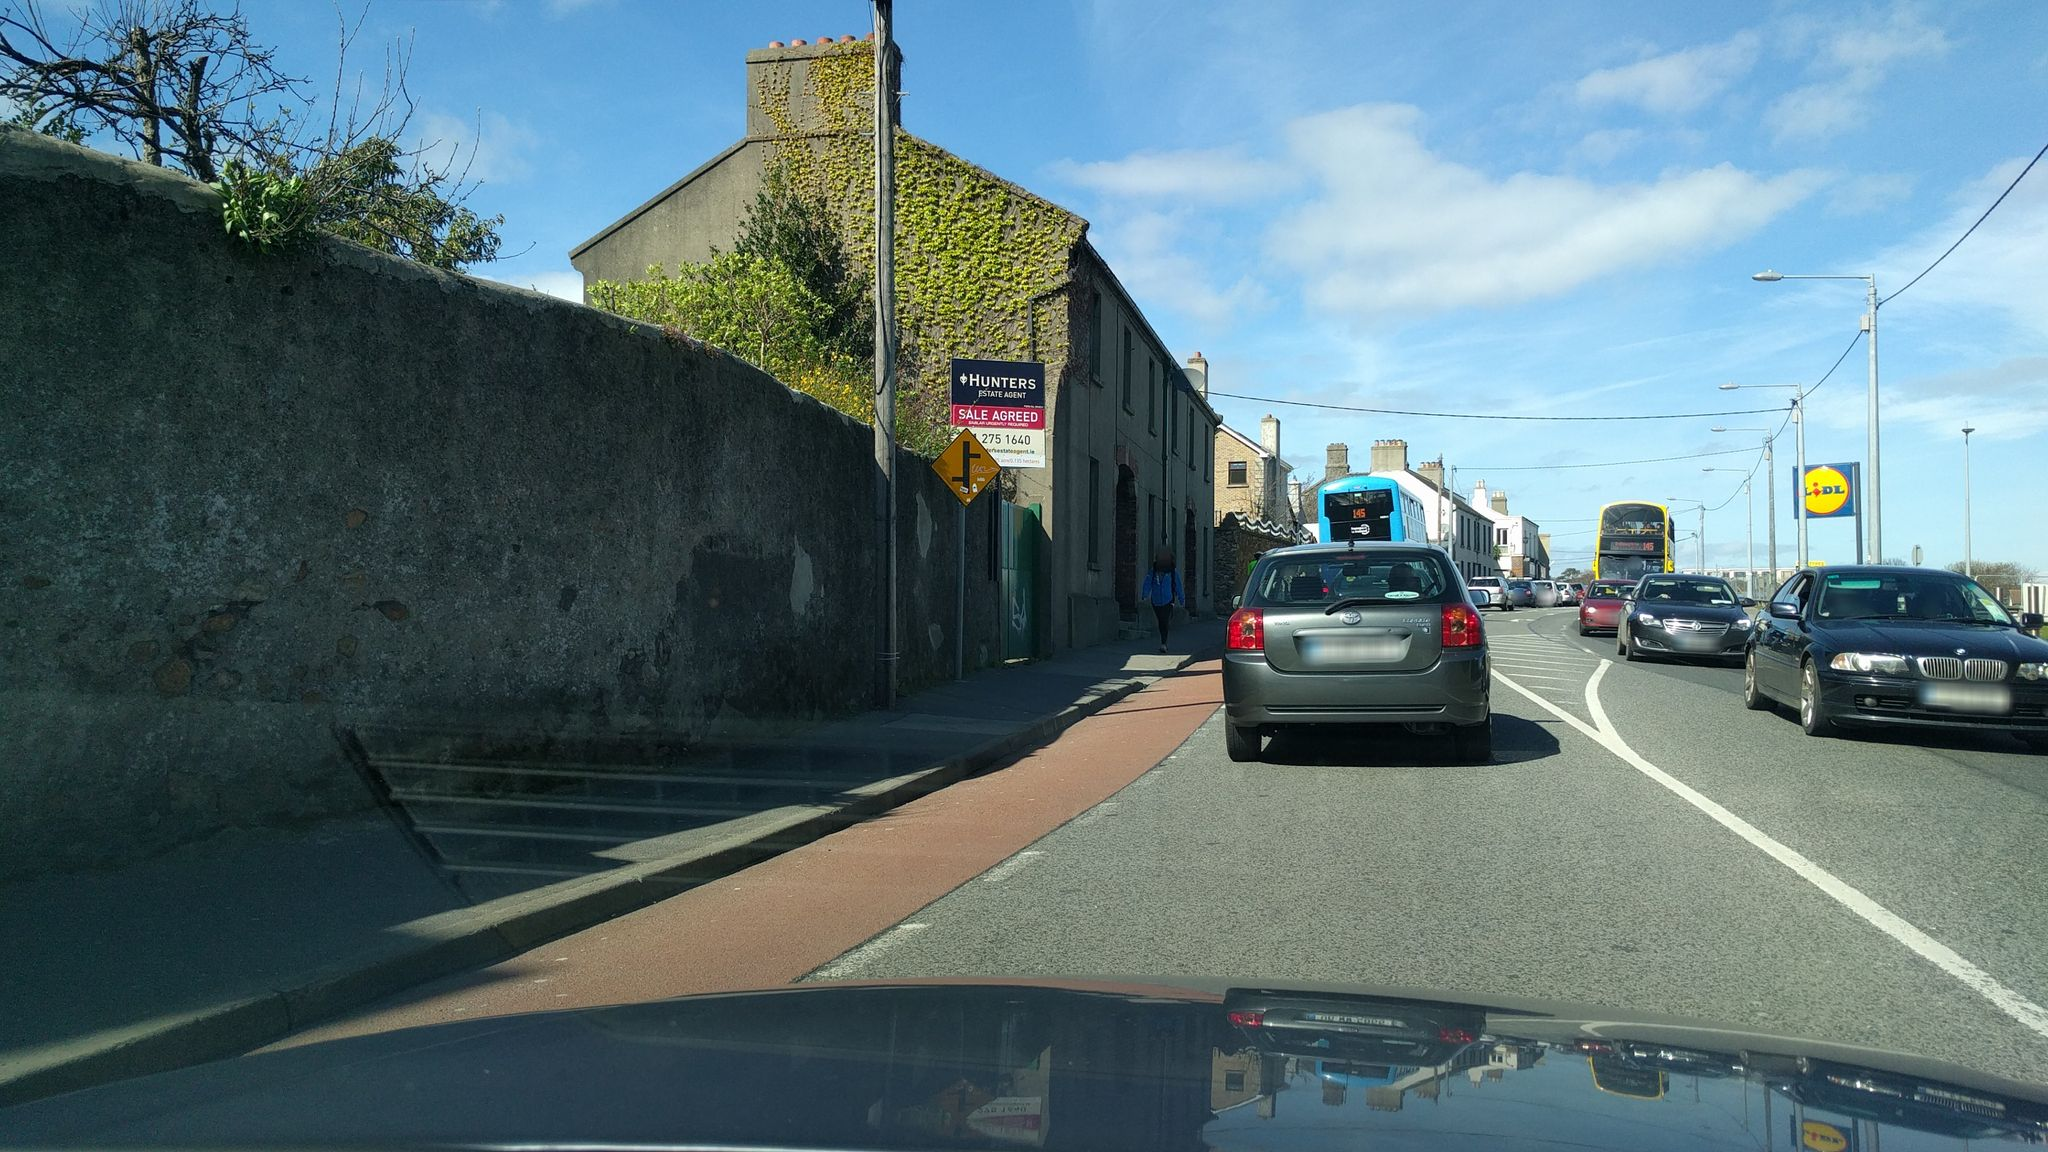property sign: (933, 335, 1063, 498)
